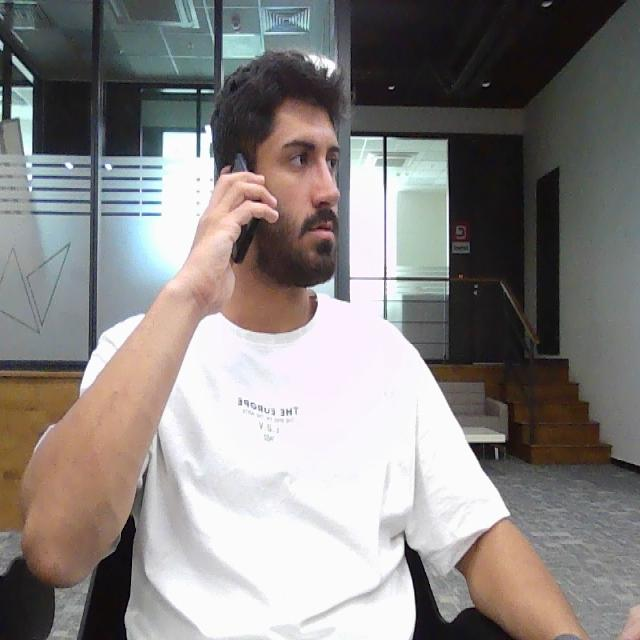phone: (223, 153, 263, 265)
